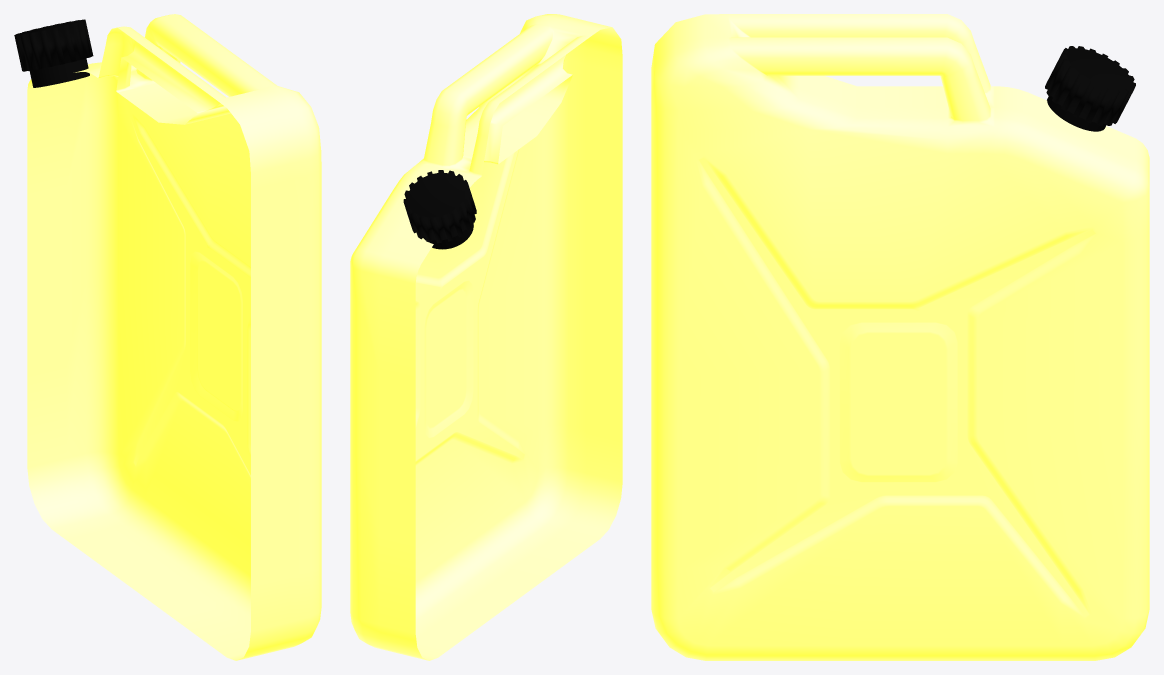
The model's file is jerry.glb.
3 renders of one model, left to right at view 1: azimuth 30°, elevation 25°; view 2: azimuth 150°, elevation 25°; view 3: azimuth 270°, elevation 25°, orthographic. The views are drawn at different scales.
Parts seen in each view (by area): view 1: Cube, Cylinder; view 2: Cube, Cylinder; view 3: Cube, Cylinder.
Boxes of the visible parts, x1=… form: Cube: x1=27, y1=14, x2=321, y2=660; Cylinder: x1=14, y1=19, x2=93, y2=87; Cube: x1=350, y1=14, x2=622, y2=660; Cylinder: x1=403, y1=170, x2=476, y2=249; Cube: x1=651, y1=14, x2=1149, y2=660; Cylinder: x1=1045, y1=46, x2=1135, y2=131.
Size of the model in its own units: 0.9757 by 4.63 by 3.41.
